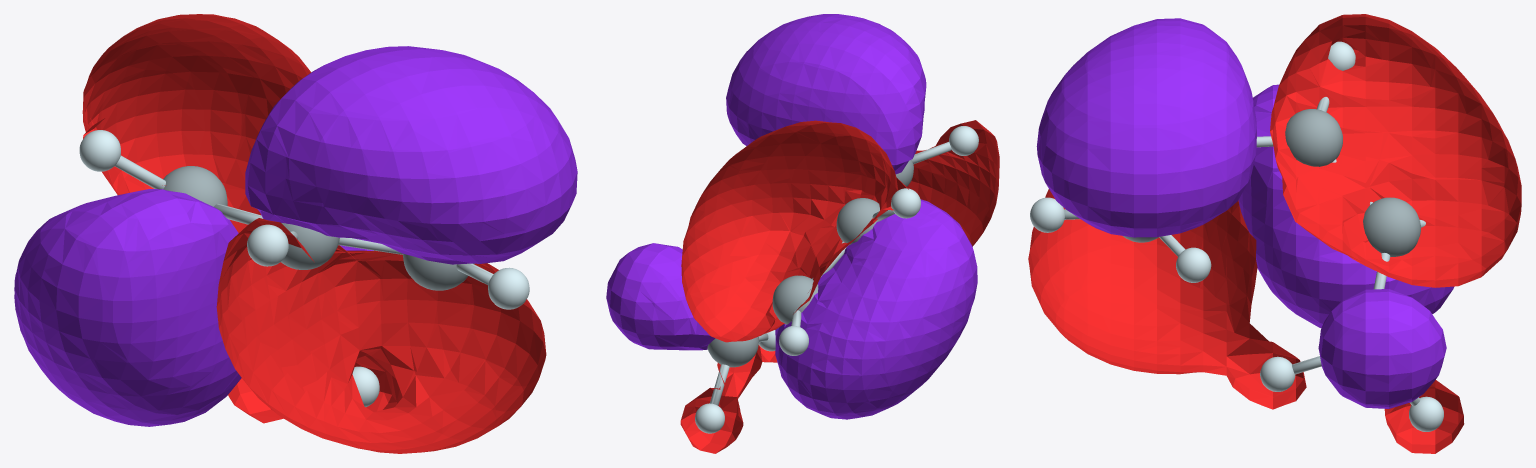
The picture shows the model from 3 angles, left to right: view 1: azimuth 30°, elevation 25°; view 2: azimuth 150°, elevation 25°; view 3: azimuth 270°, elevation 25°; orthographic projection. The views are drawn at different scales.
Visible parts, largest first — view 1: Renderer Node; view 2: Renderer Node; view 3: Renderer Node.
Part boxes in pixels (left/top/right/bottom): Renderer Node: left=14, top=14, right=577, bottom=453; Renderer Node: left=606, top=14, right=999, bottom=453; Renderer Node: left=1028, top=14, right=1521, bottom=453.
Size of the model in its own units: 4.96 by 5.03 by 5.57.
